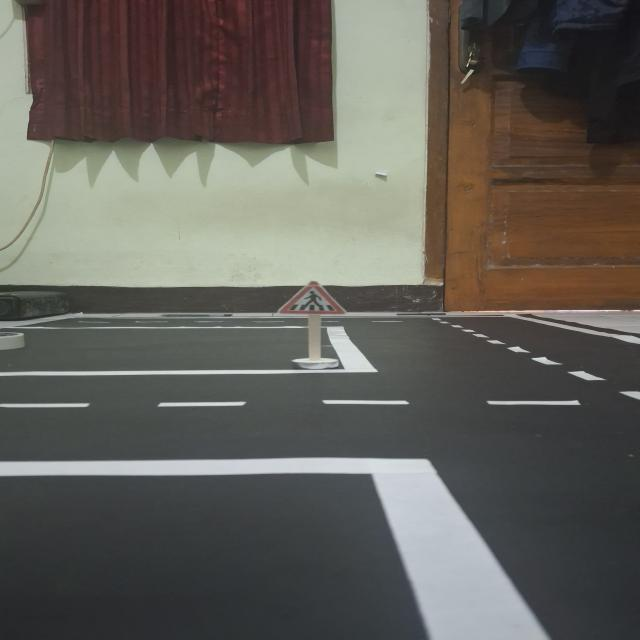Rambu Penyebrangan: (279, 281, 346, 314)
